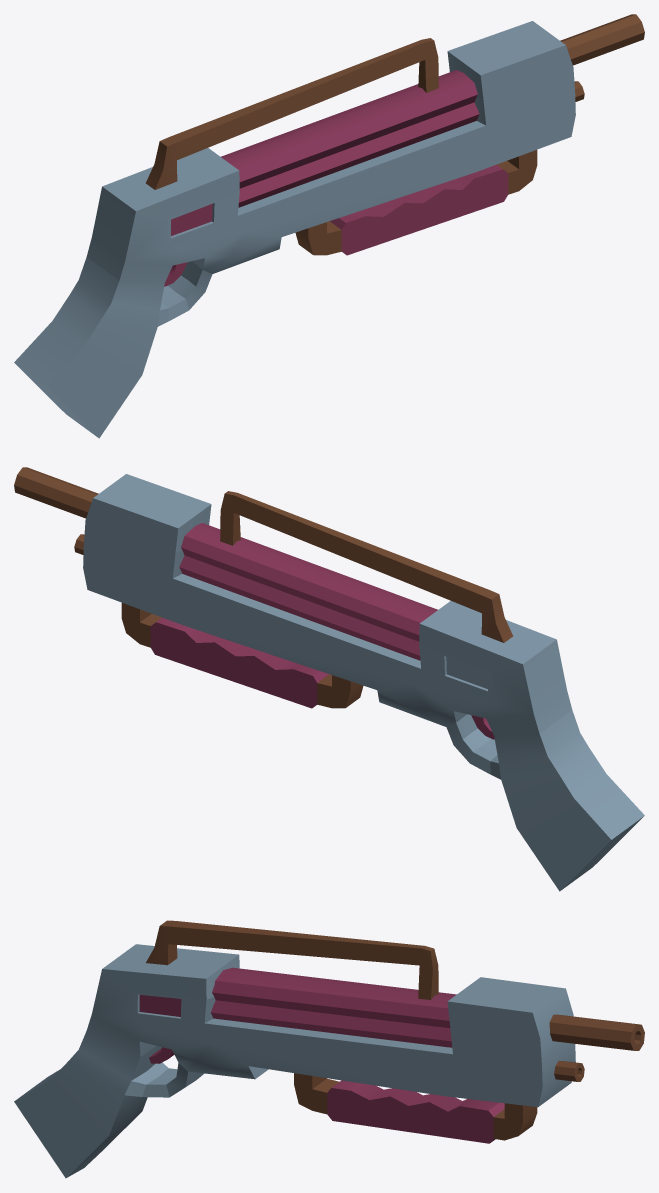
File: Blaster2.fbx
The picture shows the model from 3 angles, top to bottom: view 1: azimuth 30°, elevation 25°; view 2: azimuth 150°, elevation 25°; view 3: azimuth 330°, elevation 25°; orthographic projection.
Parts seen in each view (by area): view 1: pCube3, pPipe6, pCube5, pCube6, pPipe2; view 2: pCube3, pPipe6, pCube5, pCube6, pPipe2; view 3: pCube3, pPipe6, pCube5, pCube6, pPipe2, pPipe3.
Boxes of the visible parts, x1,y1,x2,y2 form: pCube3: (14, 21, 575, 438); pPipe6: (221, 70, 479, 207); pCube5: (295, 150, 537, 255); pCube6: (146, 38, 438, 189); pPipe2: (560, 14, 644, 65); pCube3: (83, 474, 644, 891); pPipe6: (179, 523, 437, 660); pCube5: (121, 603, 363, 708); pCube6: (220, 491, 512, 642); pPipe2: (14, 467, 98, 518); pCube3: (14, 944, 575, 1178); pPipe6: (210, 967, 456, 1047); pCube5: (294, 1073, 537, 1143); pCube6: (146, 920, 438, 999); pPipe2: (549, 1014, 644, 1050); pPipe3: (554, 1060, 584, 1081).
Bounding box in the file's own units: 5.21 × 2.48 × 0.5033.
